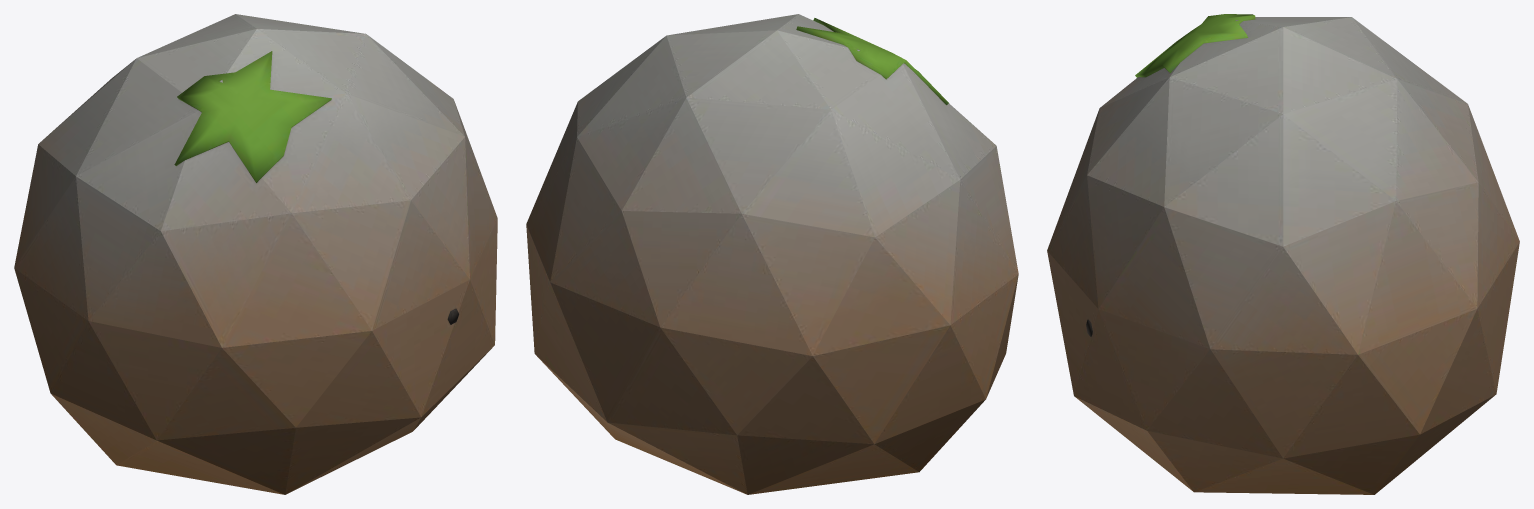
The model's file is rock_3_low.glb.
The picture shows the model from 3 angles, left to right: view 1: azimuth 30°, elevation 25°; view 2: azimuth 150°, elevation 25°; view 3: azimuth 270°, elevation 25°; orthographic projection. The views are drawn at different scales.
Visible parts, largest first — view 1: rock_3; view 2: rock_3; view 3: rock_3.
Boxes of the visible parts, left/top/right/bottom form: rock_3: left=14, top=14, right=497, bottom=494; rock_3: left=526, top=14, right=1018, bottom=494; rock_3: left=1047, top=14, right=1519, bottom=494.
Bounding box in the file's own units: 0.6119 × 0.5972 × 0.5836.
1 material, 1 textured.
